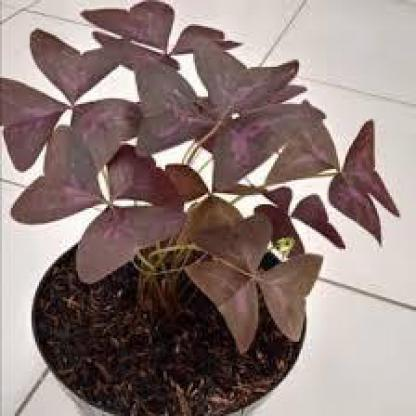Kupu-Kupu: (181, 216, 315, 343), (150, 55, 295, 166), (1, 38, 144, 150), (32, 161, 185, 257)
